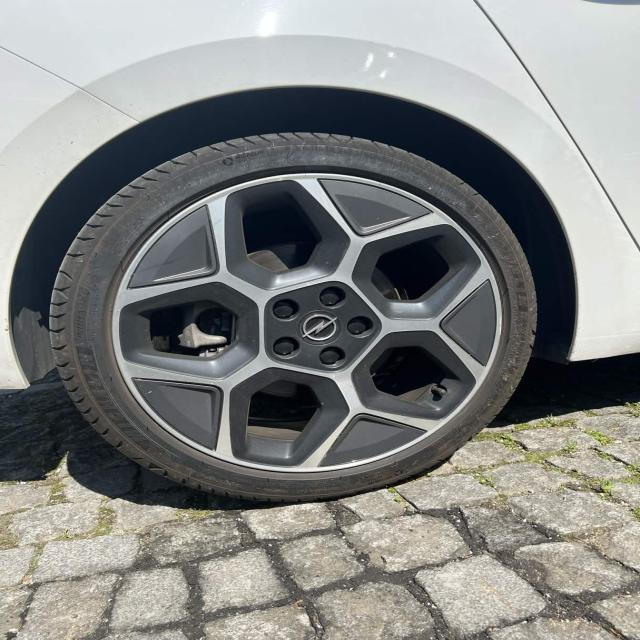jante: (110, 171, 505, 475)
parafuso: (261, 333, 305, 364), (262, 297, 304, 325), (312, 285, 352, 312), (315, 344, 350, 371), (342, 316, 378, 339)
roda: (47, 128, 539, 504)
